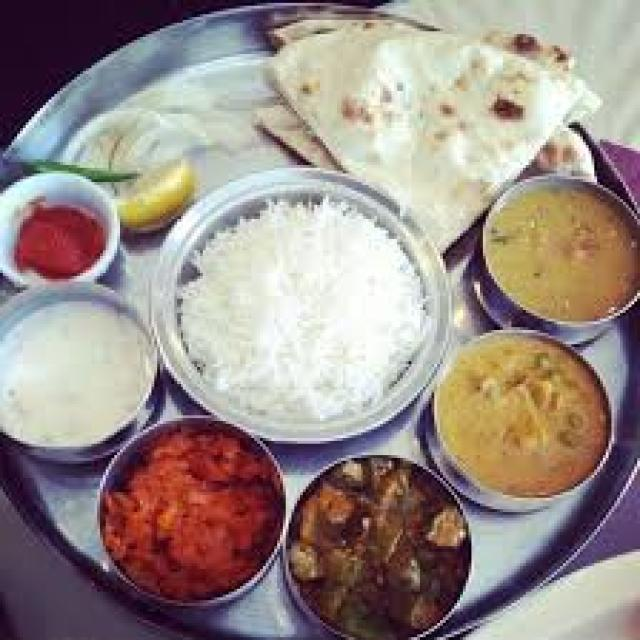curd: (0, 296, 160, 451)
dal: (478, 174, 632, 326), (119, 157, 209, 233)
pickle: (13, 197, 107, 282)
rice: (177, 191, 429, 426)
roti: (312, 33, 545, 196)
veg-fry: (295, 451, 483, 640)
